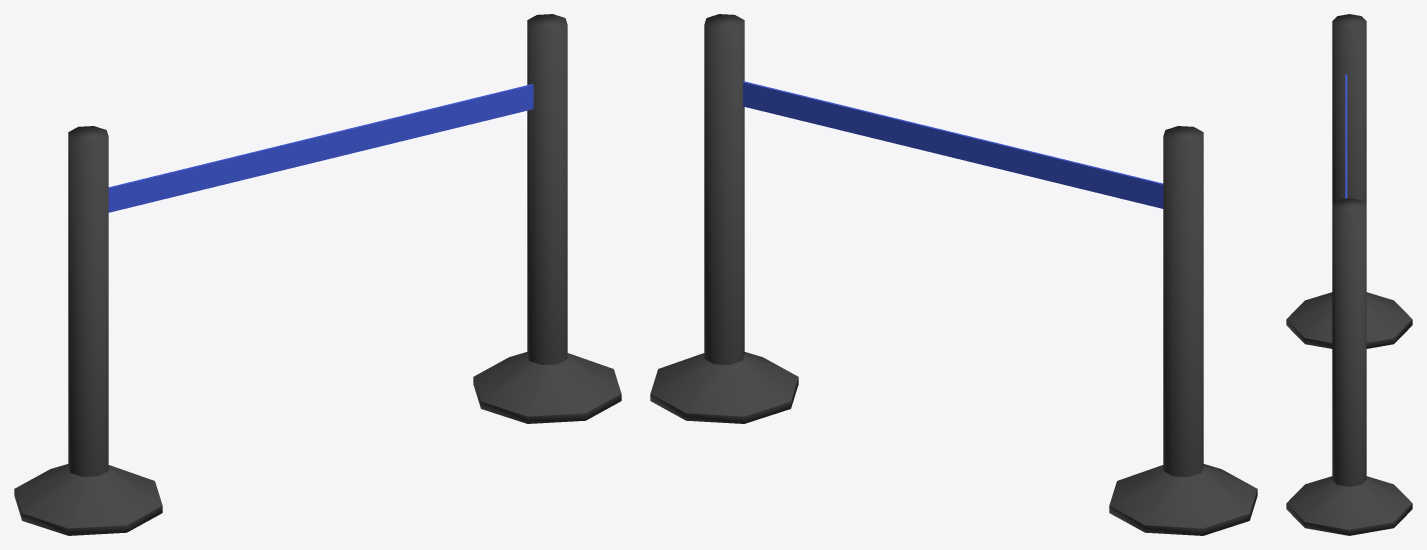
The model's file is LinePost.FBX.
3 views of the same model, side by side, from view 1: azimuth 30°, elevation 25°; view 2: azimuth 150°, elevation 25°; view 3: azimuth 270°, elevation 25° (orthographic). The views are drawn at different scales.
Parts seen in each view (by area): view 1: Line posts1; view 2: Line posts1; view 3: Line posts1.
Boxes of the visible parts, box(x1,y1,x2,y2) form: Line posts1: box(14, 14, 621, 535); Line posts1: box(650, 14, 1257, 535); Line posts1: box(1286, 14, 1412, 535).
Bounding box in the file's own units: 58.96 × 35.24 × 13.24.
